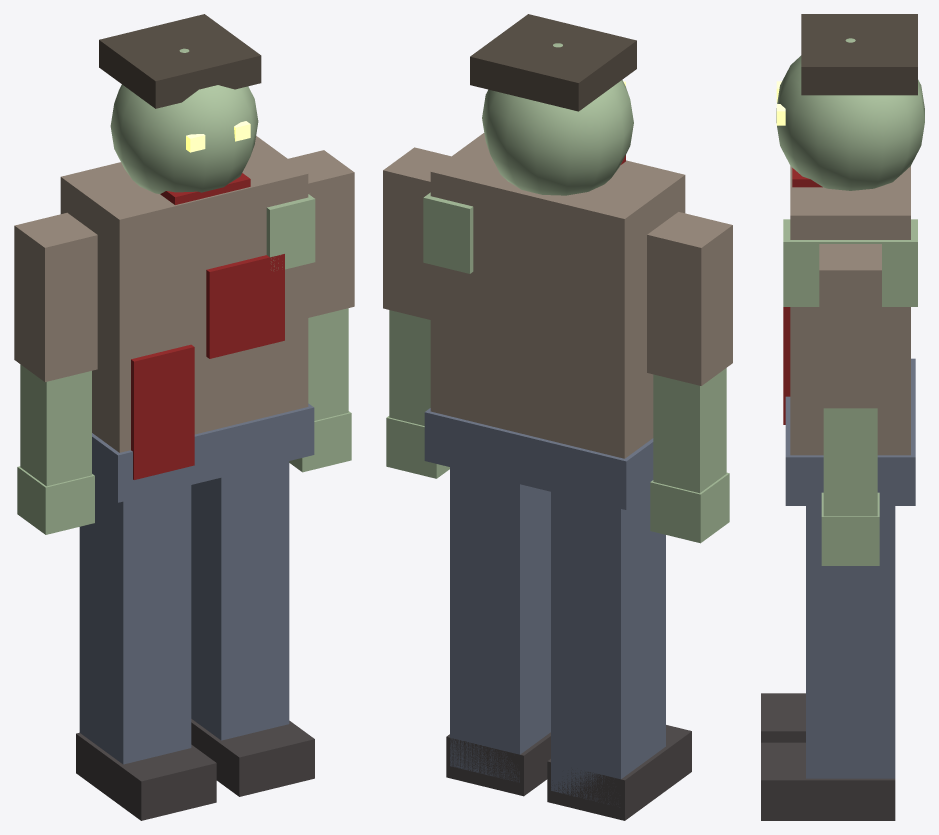
The model's file is zombi.glb.
The picture shows the model from 3 angles, left to right: view 1: azimuth 30°, elevation 25°; view 2: azimuth 150°, elevation 25°; view 3: azimuth 270°, elevation 25°; orthographic projection. The views are drawn at different scales.
Parts seen in each view (by area): view 1: Cuerpo, PiernaI, PiernaD, BrazoI, Cabeza, BrazoD; view 2: Cuerpo, PiernaI, PiernaD, BrazoI, Cabeza, BrazoD; view 3: PiernaD, Cuerpo, Cabeza, BrazoD, PiernaI.
Part boxes in pixels (bbox=[...]): Cuerpo: bbox=[60, 136, 315, 502]; PiernaI: bbox=[76, 485, 216, 820]; PiernaD: bbox=[191, 461, 314, 796]; BrazoI: bbox=[14, 212, 97, 534]; Cabeza: bbox=[99, 14, 261, 204]; BrazoD: bbox=[288, 150, 354, 472]; Cuerpo: bbox=[423, 133, 685, 509]; PiernaI: bbox=[547, 492, 691, 820]; PiernaD: bbox=[446, 467, 550, 796]; BrazoI: bbox=[647, 212, 732, 543]; Cabeza: bbox=[470, 14, 636, 195]; BrazoD: bbox=[383, 147, 451, 478]; PiernaD: bbox=[761, 506, 895, 820]; Cuerpo: bbox=[783, 166, 917, 505]; Cabeza: bbox=[776, 14, 924, 190]; BrazoD: bbox=[819, 244, 881, 565]; PiernaI: bbox=[761, 693, 805, 742].
Size of the model in its own units: 0.82 by 1.82 by 0.3657.
